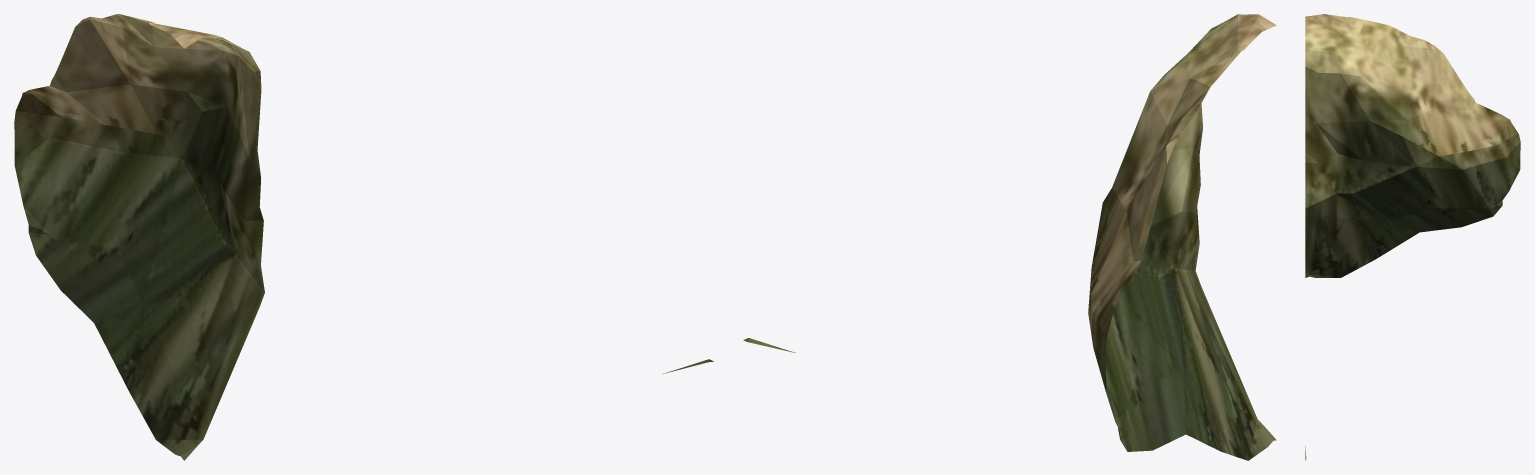
The picture shows the model from 3 angles, left to right: view 1: azimuth 30°, elevation 25°; view 2: azimuth 150°, elevation 25°; view 3: azimuth 270°, elevation 25°; orthographic projection. The views are drawn at different scales.
Bounding box in the file's own units: 1.85 × 1.5 × 1.02.
1 material, 1 textured.
